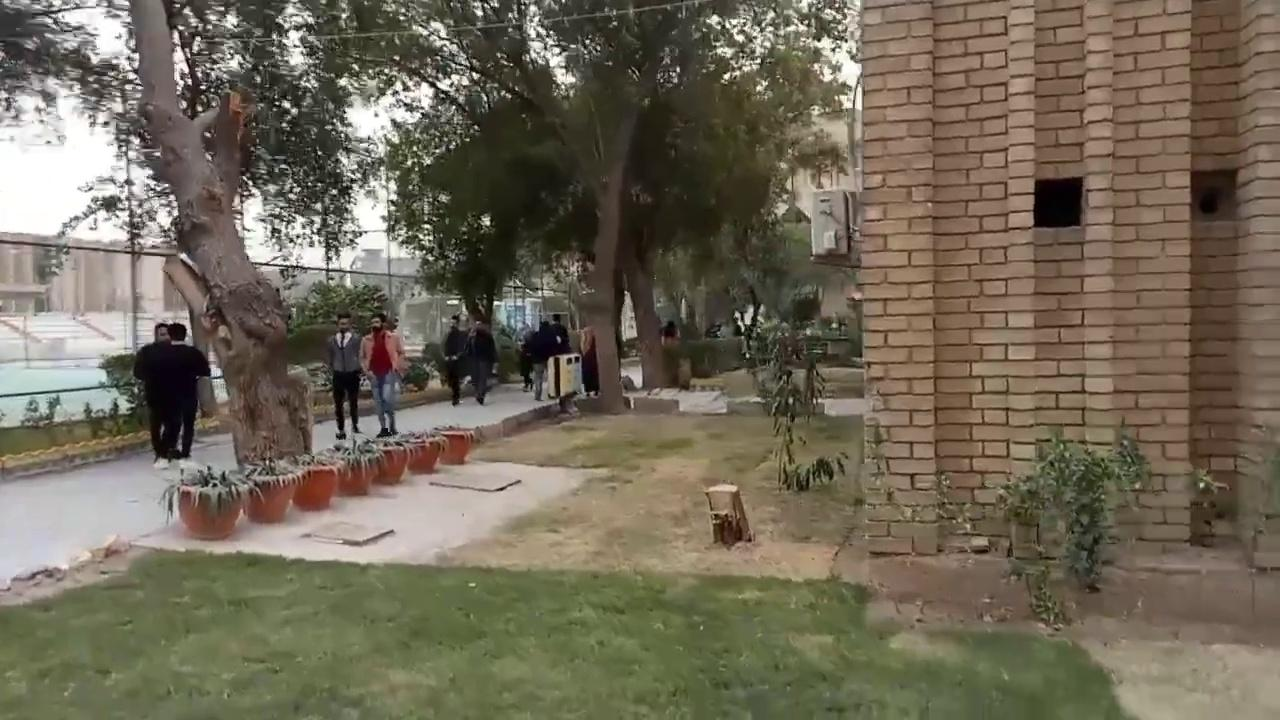person: (164, 322, 210, 460), (132, 322, 174, 469), (359, 314, 405, 437), (324, 310, 364, 439), (465, 320, 498, 405), (440, 313, 469, 405), (579, 318, 598, 397)
tree: (334, 0, 852, 413), (0, 0, 382, 472), (983, 418, 1150, 627), (735, 280, 849, 493)
